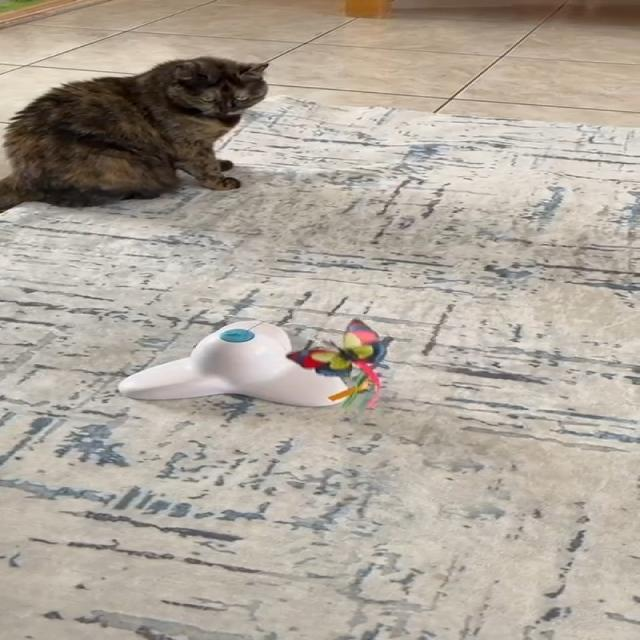authorized: (0, 55, 269, 212)
